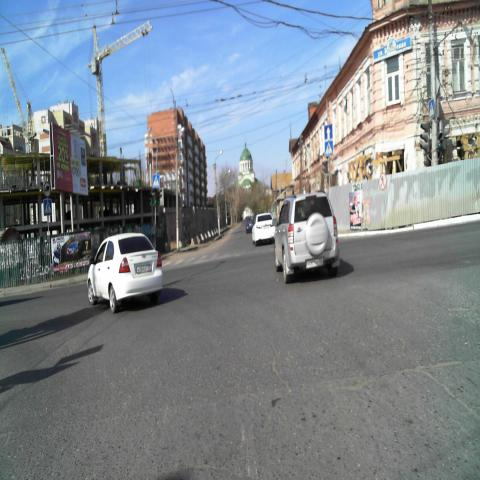3_10: (379, 171, 387, 190)
3_4_1: (44, 181, 52, 197)
